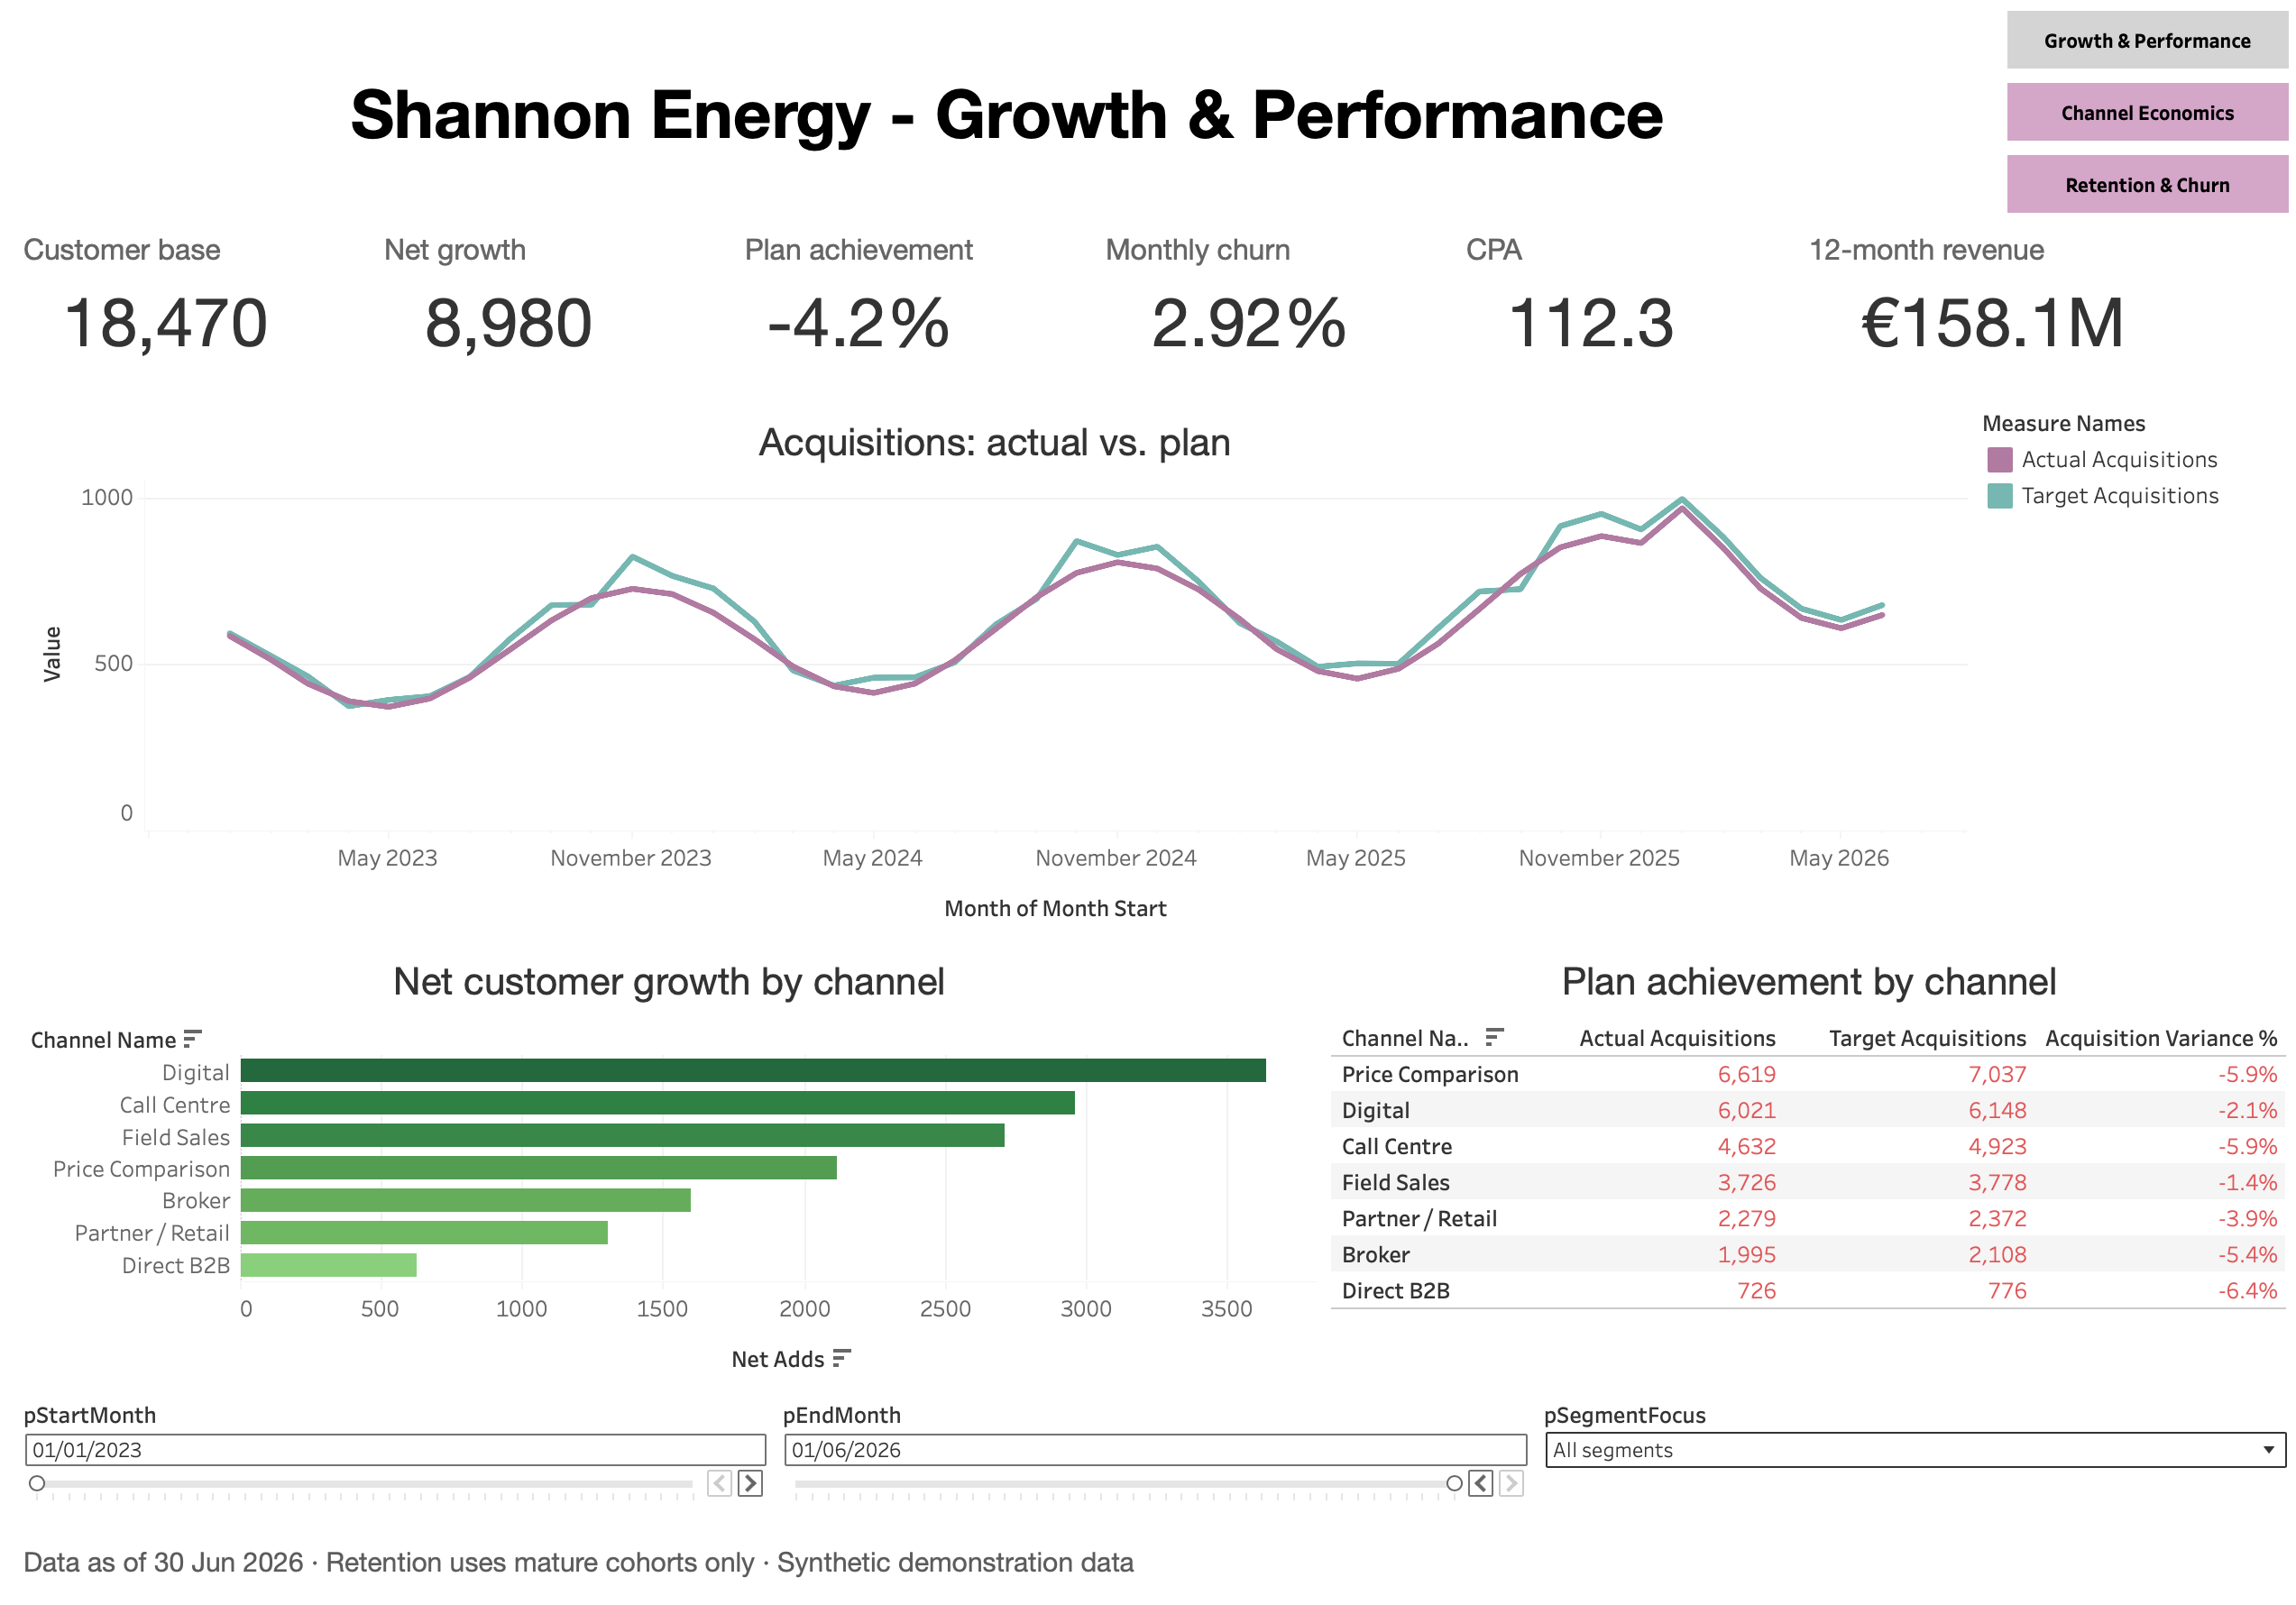

This screenshot's page, from the dashboard's own definition file:
{"tool":"tableau","page":{"name":"Growth & Performance","canvas":[1280,900],"ordinal":1},"visuals":[{"type":"text","box":[8,8,1100,121]},{"type":"dashboard-object","box":[1108,8,164,40]},{"type":"dashboard-object","box":[1108,48,164,40]},{"type":"dashboard-object","box":[1108,88,164,40]},{"type":"text","box":[8,129,200,30]},{"type":"text","box":[208,129,200,30]},{"type":"text","box":[408,129,200,30]},{"type":"text","box":[608,129,200,30]},{"type":"text","box":[808,129,190,30]},{"type":"text","box":[998,129,274,30]},{"type":"worksheet","title":"KPI Closing Base","mark":"Automatic","box":[8,159,200,69]},{"type":"worksheet","title":"KPI Net Adds","mark":"Automatic","box":[208,159,200,69]},{"type":"worksheet","title":"KPI Acq vs Target","mark":"Automatic","box":[408,159,200,69]},{"type":"worksheet","title":"KPI Monthly Churn","mark":"Automatic","box":[608,159,200,69]},{"type":"worksheet","title":"KPI CPA","mark":"Automatic","box":[808,159,190,69]},{"type":"worksheet","title":"KPI Revenue R12M","mark":"Automatic","box":[998,159,268,69]},{"type":"worksheet","title":"Actual vs Target by Month","mark":"Line","cols":["MonthStart"],"box":[8,228,1086,300]},{"type":"legend","title":"Actual vs Target by Month","param":"[federated.04vexel131hrko1g8851s1m17b1d].[:Measure Names]","box":[1094,228,178,300]},{"type":"worksheet","title":"Net Adds by Channel","mark":"Bar","rows":["ChannelName"],"cols":["Calculation_2794116624441350"],"box":[8,528,757,250]},{"type":"worksheet","title":"Channel Plan Table","mark":"Automatic","rows":["ChannelName"],"box":[765,528,507,250]},{"type":"parameter","param":"[Parameters].[Parameter 2794116622106624]","box":[8,778,421.3,75]},{"type":"parameter","param":"[Parameters].[Parameter 2794116622622721]","box":[429.3,778,421.3,75]},{"type":"parameter","param":"[Parameters].[Parameter 2794116622929922]","box":[850.6,778,421.3,75]},{"type":"text","box":[8,853,1264,39]}]}

Visuals, with their boxes in screenshot pixels (x1, y1, x2, y2), scaled from the page's 1280x900 canvas onto the 2296x1605 screenshot:
text: BBox(14, 14, 1988, 230)
dashboard-object: BBox(1988, 14, 2282, 86)
dashboard-object: BBox(1988, 86, 2282, 157)
dashboard-object: BBox(1988, 157, 2282, 228)
text: BBox(14, 230, 373, 283)
text: BBox(373, 230, 732, 283)
text: BBox(732, 230, 1090, 283)
text: BBox(1090, 230, 1449, 283)
text: BBox(1449, 230, 1790, 283)
text: BBox(1790, 230, 2282, 283)
"KPI Closing Base" worksheet: BBox(14, 283, 373, 407)
"KPI Net Adds" worksheet: BBox(373, 283, 732, 407)
"KPI Acq vs Target" worksheet: BBox(732, 283, 1090, 407)
"KPI Monthly Churn" worksheet: BBox(1090, 283, 1449, 407)
"KPI CPA" worksheet: BBox(1449, 283, 1790, 407)
"KPI Revenue R12M" worksheet: BBox(1790, 283, 2271, 407)
"Actual vs Target by Month" worksheet (Line marks): BBox(14, 407, 1962, 941)
"Actual vs Target by Month" legend: BBox(1962, 407, 2282, 941)
"Net Adds by Channel" worksheet (Bar marks): BBox(14, 941, 1373, 1388)
"Channel Plan Table" worksheet: BBox(1373, 941, 2282, 1388)
parameter: BBox(14, 1388, 770, 1521)
parameter: BBox(770, 1388, 1526, 1521)
parameter: BBox(1526, 1388, 2282, 1521)
text: BBox(14, 1521, 2282, 1591)
